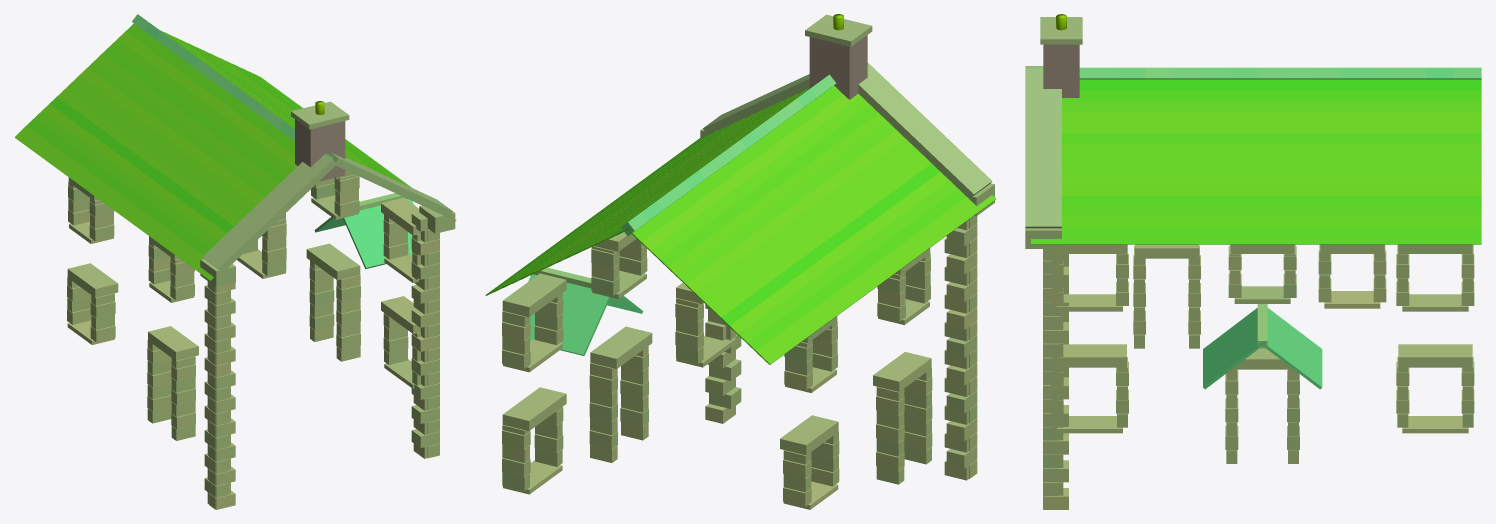
File: SM_Bld_197_Stone.glb
3 views of the same model, side by side, from view 1: azimuth 30°, elevation 25°; view 2: azimuth 150°, elevation 25°; view 3: azimuth 270°, elevation 25° (orthographic). The views are drawn at different scales.
Parts seen in each view (by area): view 1: SM_Bld_197_Stone; view 2: SM_Bld_197_Stone; view 3: SM_Bld_197_Stone.
Part boxes in pixels (bbox=[...]): SM_Bld_197_Stone: bbox=[14, 14, 456, 509]; SM_Bld_197_Stone: bbox=[485, 14, 995, 509]; SM_Bld_197_Stone: bbox=[1025, 14, 1481, 509].
Size of the model in its own units: 7.82 by 9.33 by 8.96.
